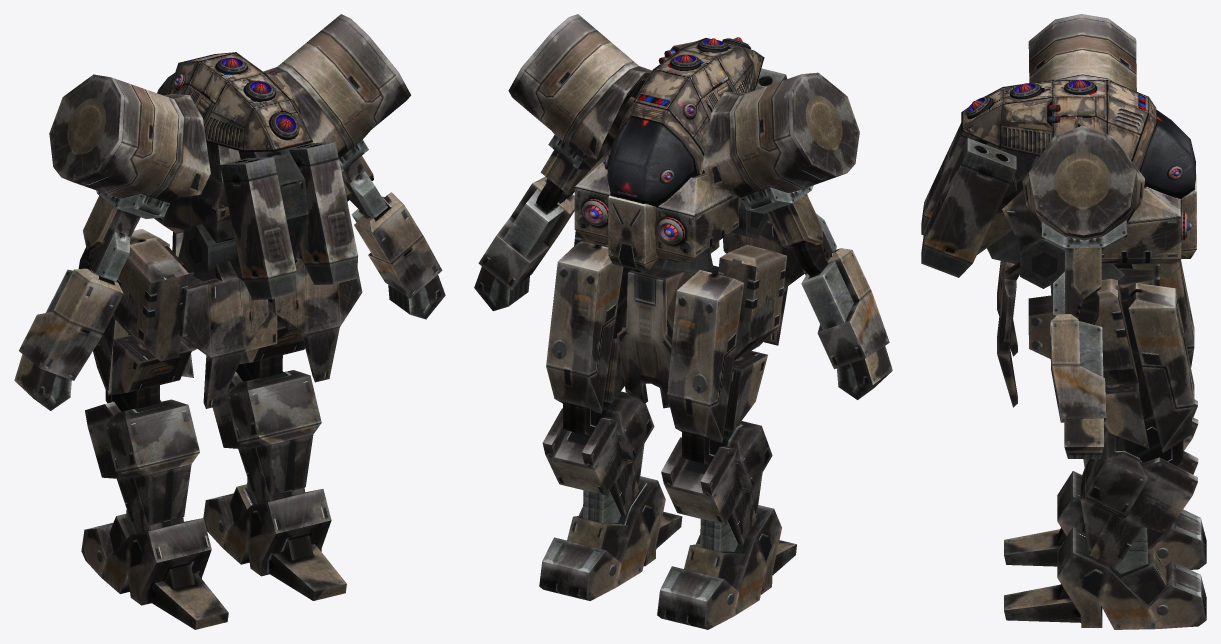
Rendered from Mark.FBX.
3 renders of one model, left to right at view 1: azimuth 30°, elevation 25°; view 2: azimuth 150°, elevation 25°; view 3: azimuth 270°, elevation 25°, orthographic. The views are drawn at different scales.
Parts seen in each view (by area): view 1: Spine1, L UpperArm, R UpperArm, L Thigh, L Calf, L Foot, R Calf, R Foot, Box01, L Forearm, R Forearm, R Thigh (+1 smaller); view 2: L UpperArm, L Thigh, Box01, R UpperArm, Spine1, R Thigh, R Foot, L Foot, R Calf, L Calf, L Forearm, Pelvis (+1 smaller); view 3: Spine1, Box01, R Thigh, R UpperArm, R Foot, R Calf, R Forearm, L UpperArm, L Foot, Pelvis, L Thigh.
Boxes of the visible parts, x1,y1,x2,y2 form: Spine1: [154, 142, 362, 408]; L UpperArm: [49, 74, 210, 281]; R UpperArm: [263, 14, 410, 217]; L Thigh: [93, 229, 191, 411]; L Calf: [85, 399, 199, 533]; L Foot: [81, 514, 228, 629]; R Calf: [212, 370, 321, 504]; R Foot: [203, 484, 346, 600]; Box01: [157, 52, 312, 151]; L Forearm: [14, 268, 123, 410]; R Forearm: [351, 192, 445, 319]; R Thigh: [235, 251, 304, 381]; L UpperArm: [702, 72, 859, 275]; L Thigh: [667, 244, 787, 464]; Box01: [582, 37, 764, 244]; R UpperArm: [508, 14, 651, 211]; Spine1: [574, 68, 804, 345]; R Thigh: [546, 231, 631, 435]; R Foot: [539, 476, 682, 600]; L Foot: [657, 505, 796, 629]; R Calf: [542, 391, 654, 523]; L Calf: [661, 421, 772, 551]; L Forearm: [801, 248, 892, 399]; Pelvis: [617, 248, 718, 408]; Spine1: [921, 123, 1196, 407]; Box01: [961, 79, 1195, 240]; R Thigh: [1094, 278, 1194, 466]; R UpperArm: [1022, 125, 1144, 324]; R Foot: [1004, 527, 1206, 629]; R Calf: [1080, 430, 1198, 574]; R Forearm: [1049, 314, 1106, 458]; L UpperArm: [1028, 14, 1136, 91]; L Foot: [1004, 471, 1206, 569]; Pelvis: [1028, 264, 1159, 358]; L Thigh: [1114, 260, 1194, 367].
Size of the model in its own units: 2.58 by 3.22 by 1.61.
2 materials, 2 textured.
